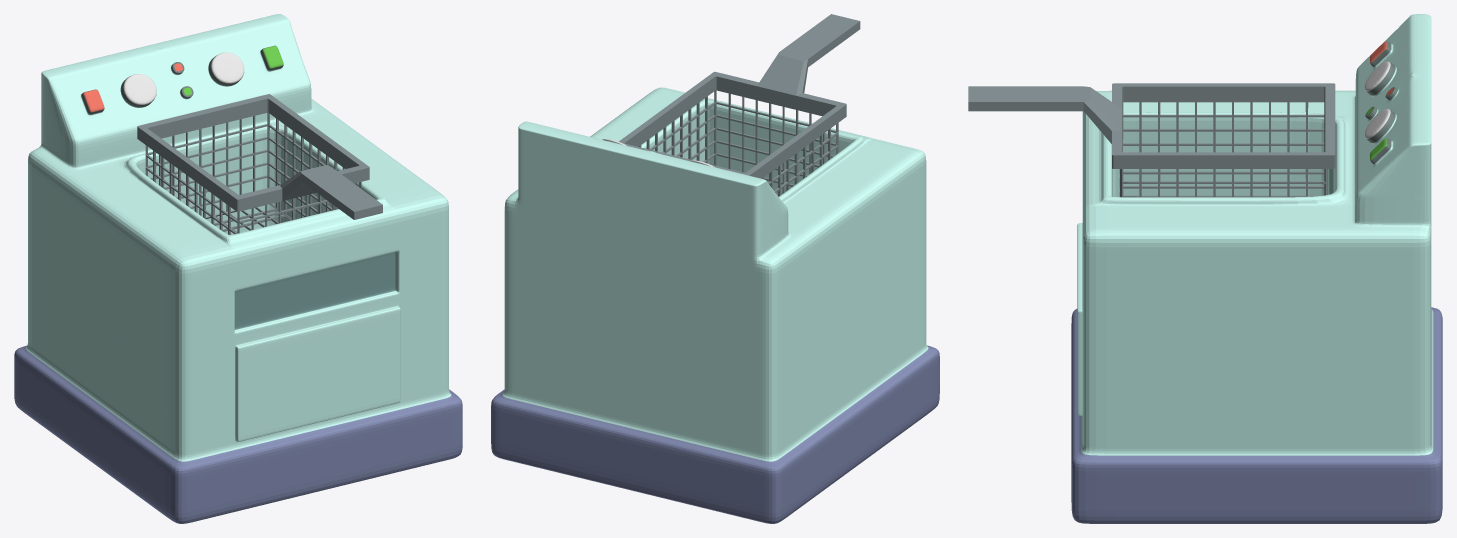
File: Fryer.fbx
3 renders of one model, left to right at view 1: azimuth 30°, elevation 25°; view 2: azimuth 150°, elevation 25°; view 3: azimuth 270°, elevation 25°, orthographic. The views are drawn at different scales.
Visible parts, largest first — view 1: 큐브.048, 평면.021; view 2: 큐브.048, 평면.021; view 3: 큐브.048, 평면.021.
Part boxes in pixels (<box>): 큐브.048: <box>14,14,462,523</box>; 평면.021: <box>137,94,382,234</box>; 큐브.048: <box>491,87,939,523</box>; 평면.021: <box>619,14,860,196</box>; 큐브.048: <box>1071,14,1442,523</box>; 평면.021: <box>968,83,1335,197</box>.
Size of the model in its own units: 315 by 346 by 402.
